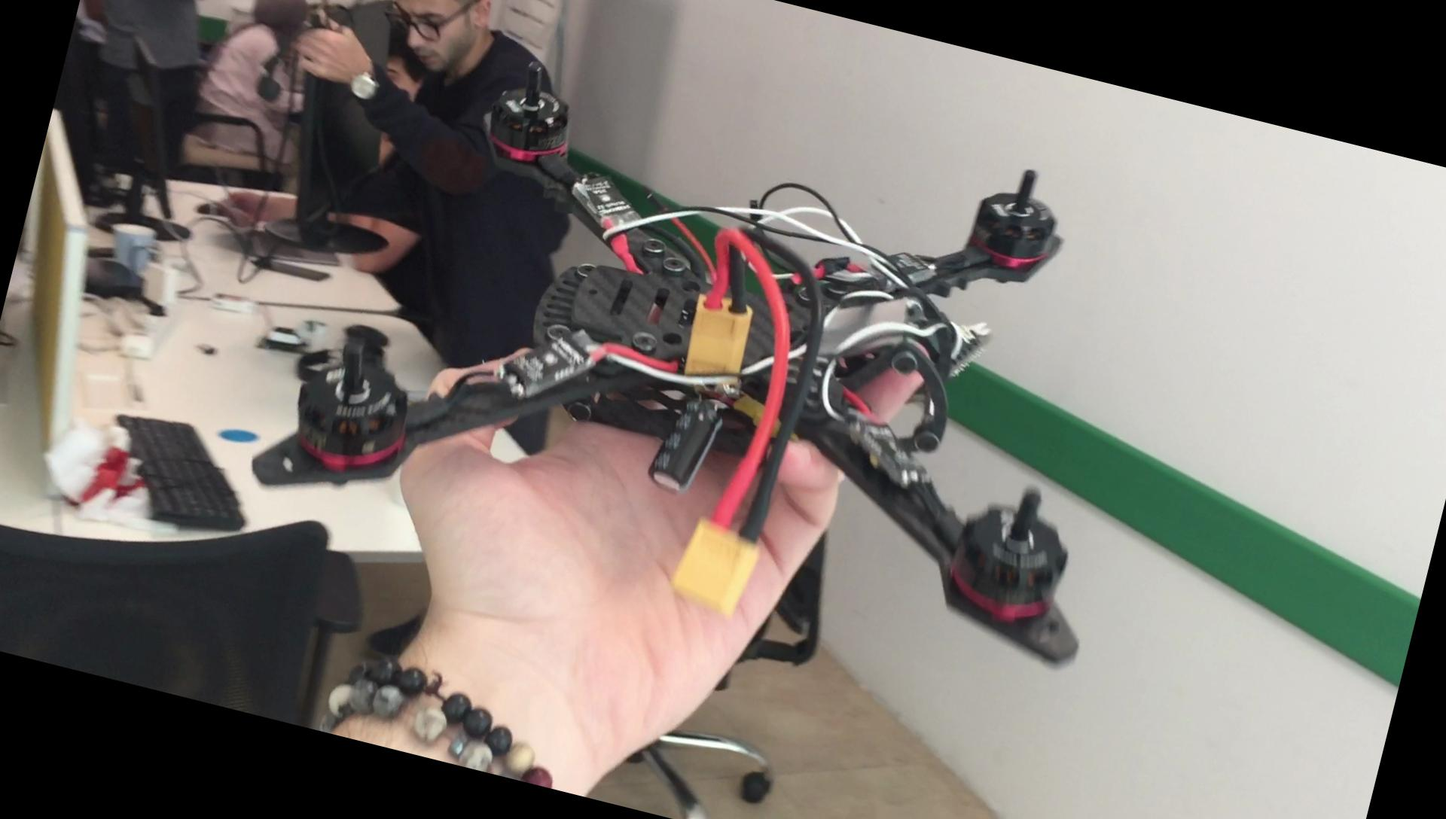drone: (224, 0, 1235, 714)
